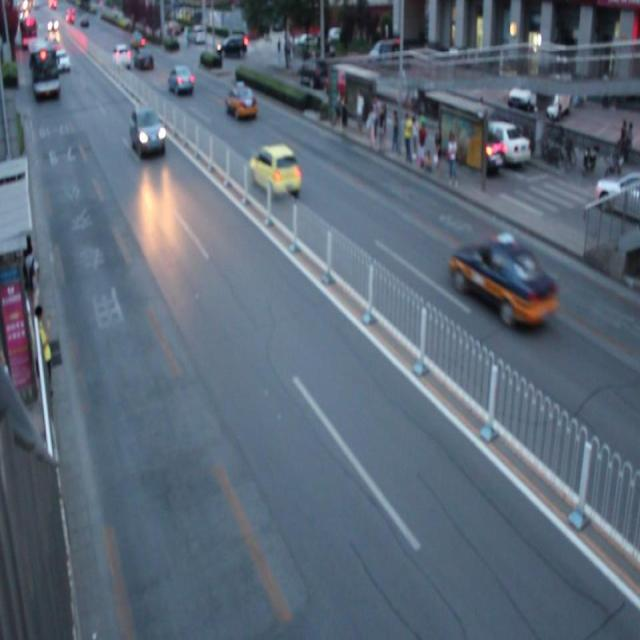car: (447, 230, 555, 327), (248, 140, 300, 201), (129, 105, 168, 156), (225, 82, 258, 121), (167, 63, 195, 96)
